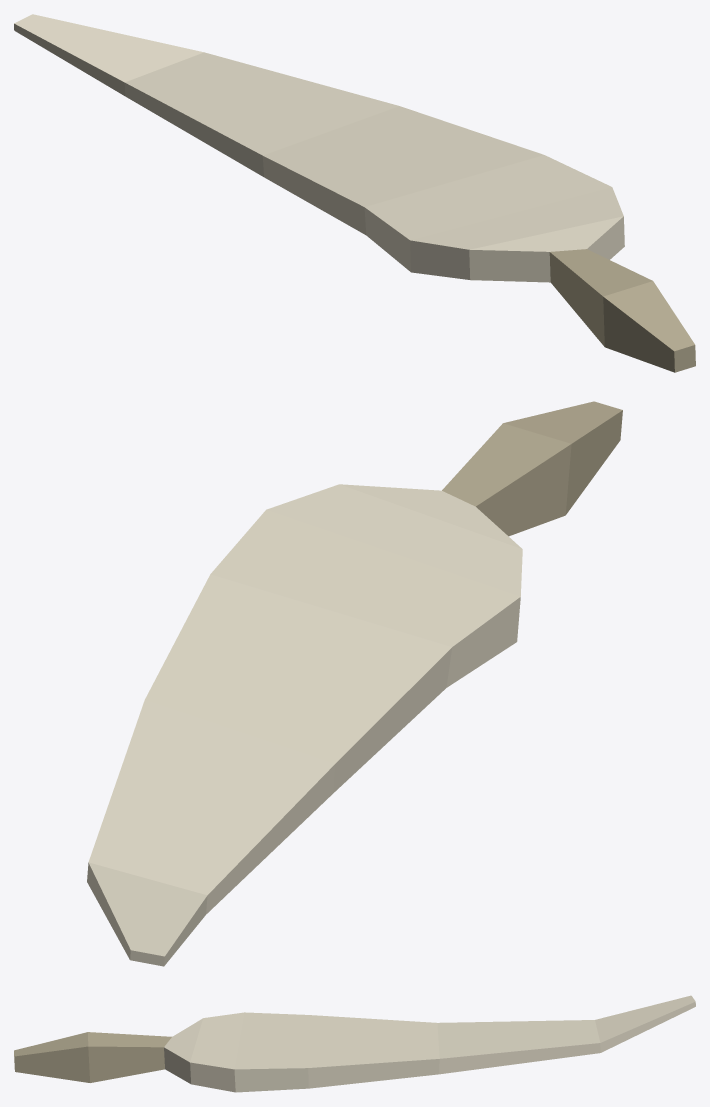
File: Quill.glb
The picture shows the model from 3 angles, top to bottom: view 1: azimuth 30°, elevation 25°; view 2: azimuth 150°, elevation 25°; view 3: azimuth 270°, elevation 25°; orthographic projection. The views are drawn at different scales.
Parts seen in each view (by area): view 1: Quill.001; view 2: Quill.001; view 3: Quill.001.
Part boxes in pixels (<box>): Quill.001: <box>14,14,695,372</box>; Quill.001: <box>87,401,622,966</box>; Quill.001: <box>14,995,695,1092</box>.
Bounding box in the file's own units: 0.1713 × 0.0346 × 0.5651.
Materials: 1 (1 with a texture image).
